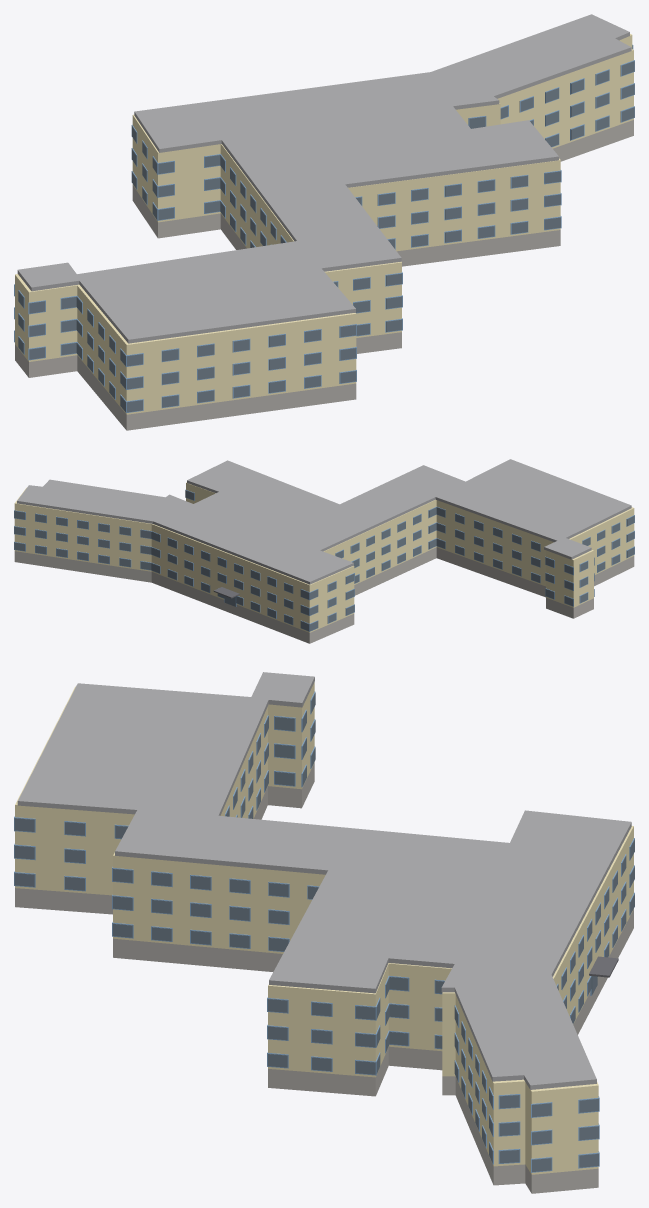
Rendered from kandern-august-macke-schule.glb.
3 renders of one model, top to bottom at view 1: azimuth 30°, elevation 25°; view 2: azimuth 150°, elevation 25°; view 3: azimuth 270°, elevation 25°, orthographic. The views are drawn at different scales.
Visible parts, largest first — view 1: building; view 2: building; view 3: building.
Part boxes in pixels (<box>): building: <box>14,14,634,430</box>; building: <box>14,459,634,643</box>; building: <box>14,672,634,1193</box>.
Bounding box in the file's own units: 117 × 14 × 73.82.
